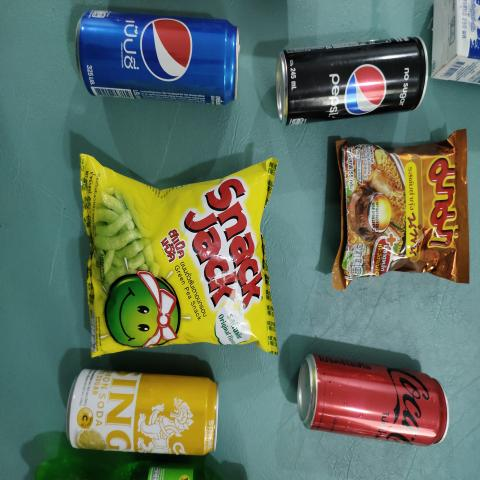coke_red: (300, 358, 453, 448)
mama: (332, 122, 470, 295)
pepsi_black: (279, 21, 431, 129)
pepsi_blue: (68, 9, 248, 108)
singha_yellow: (69, 368, 222, 453)
snack_jack: (92, 174, 270, 354)
